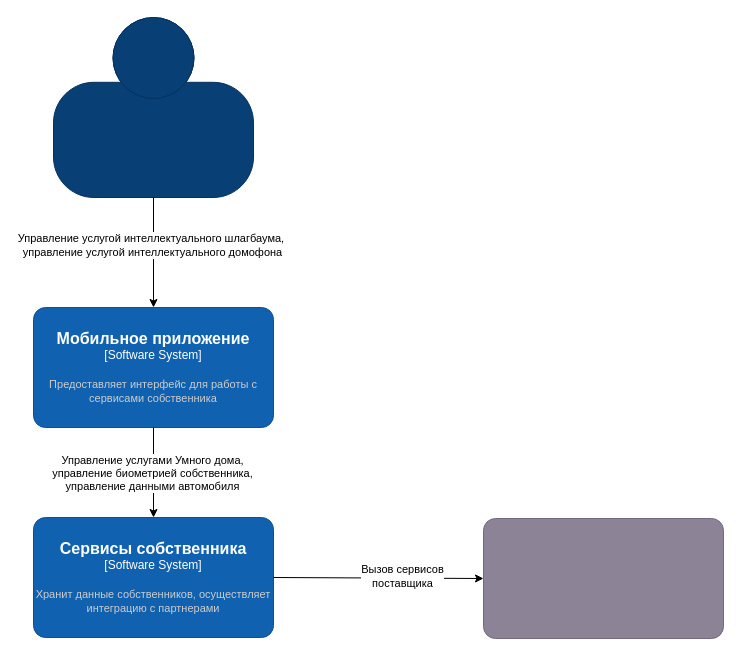
This 741x656 diagram has some shape labels left out. Here are the shapes that lost their labels. From the top down, the box of each, then its label:
(52, 16, 254, 198): Собственник [Person] Клиент
(482, 518, 724, 638): Поставщик сервисов "Умный дом" [Software System]
